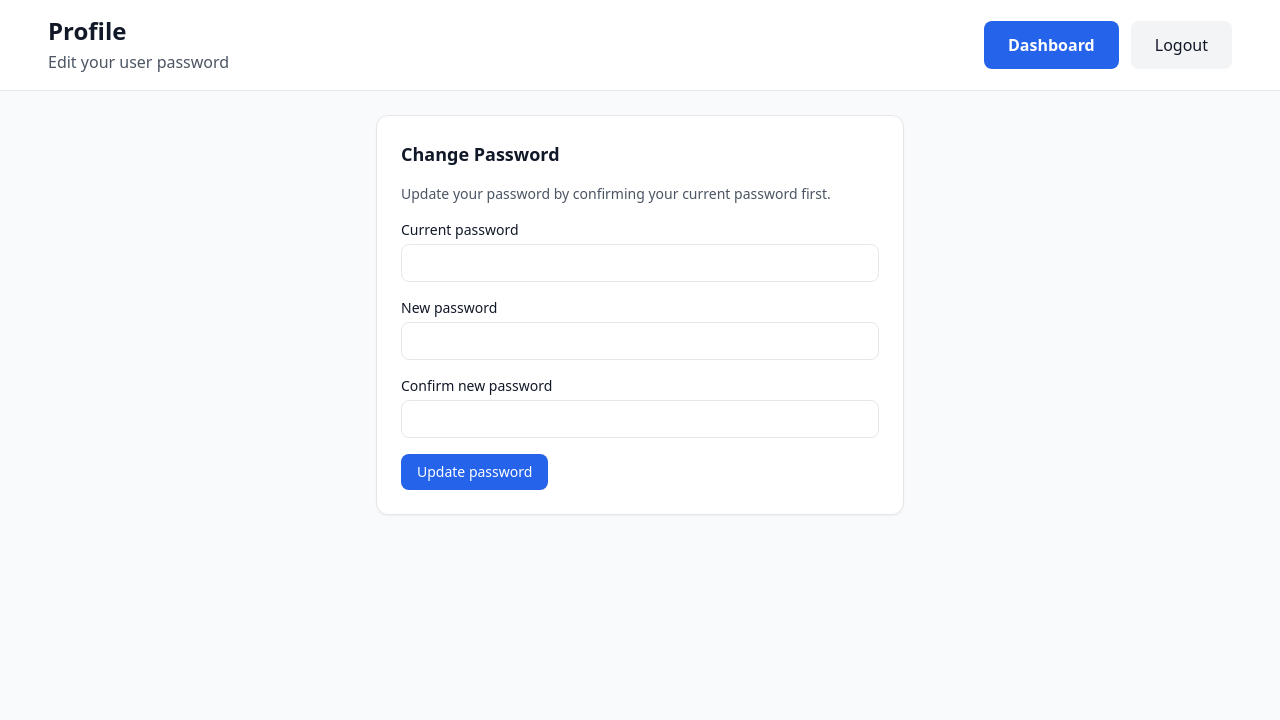
ProfilePage › shows a validation error when new passwords do not match
Expected: the heading "Profile" is shown, [48,14,126,47]
Type "oldpass" into the 1st password field at (640, 263), box [401,244,879,282]
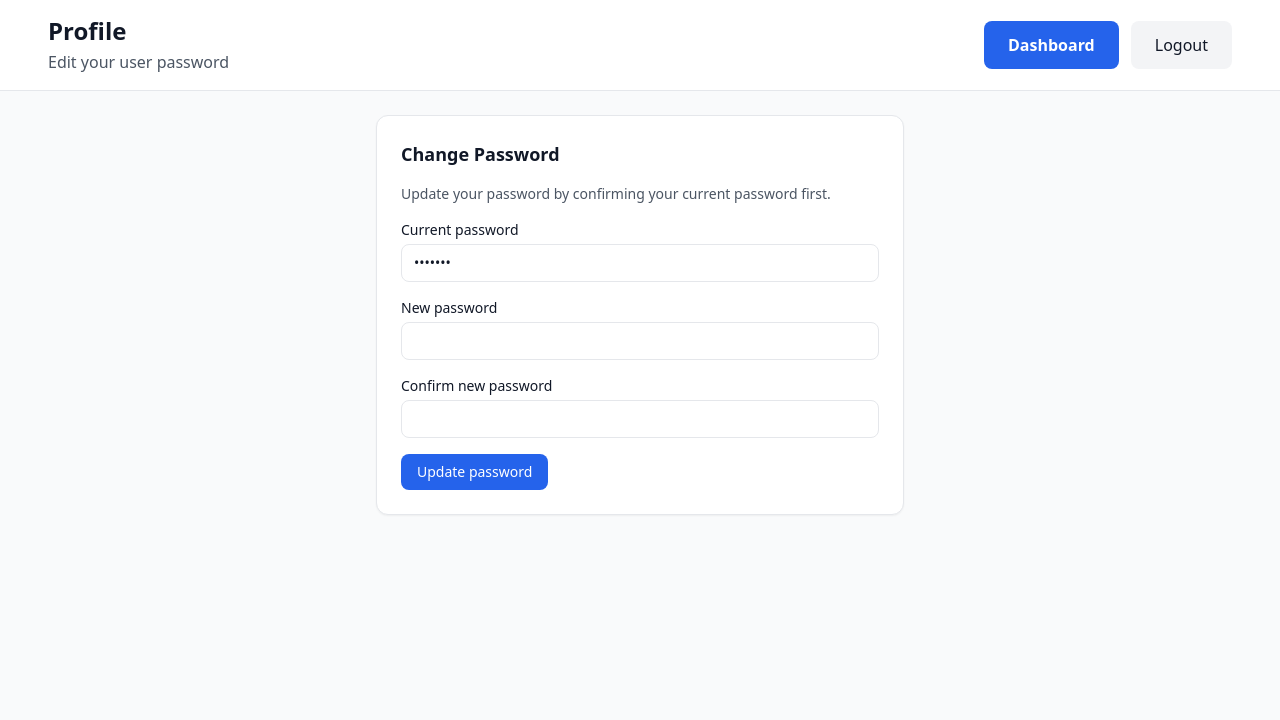
Type "newpass1" into the 2nd password field at (640, 341), box [401,322,879,360]
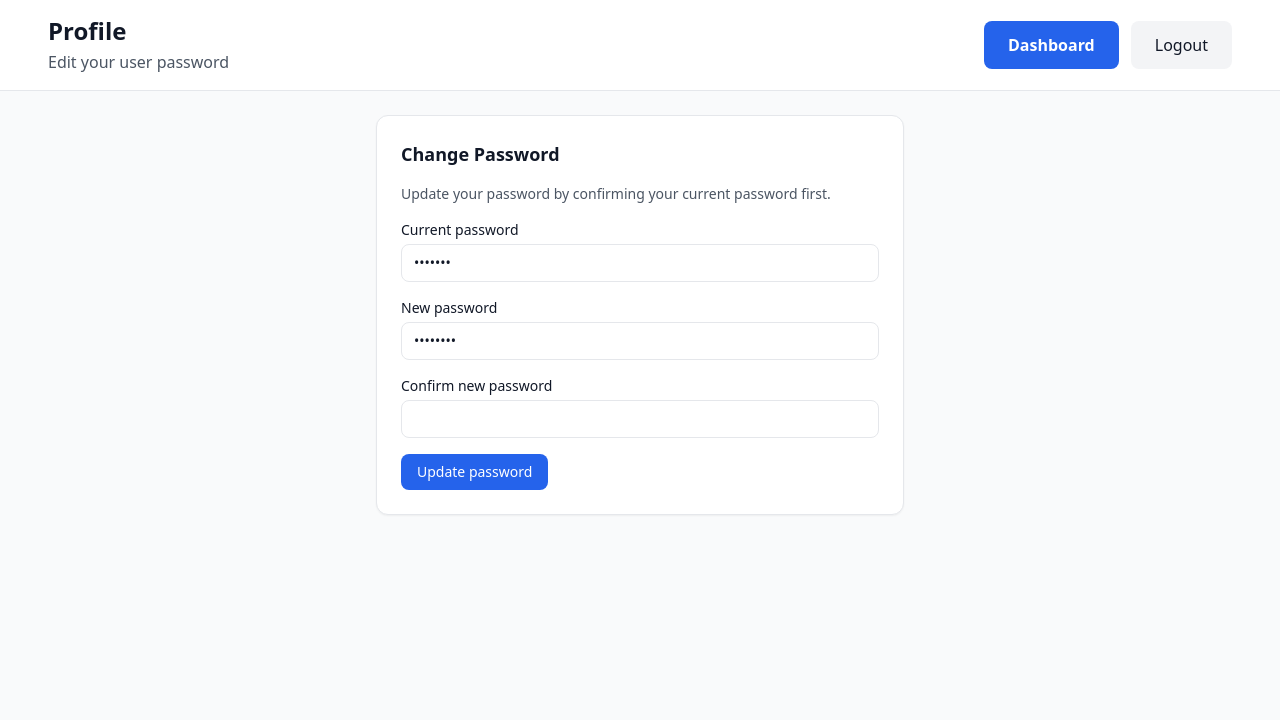
Type "newpass2" into the password field below "Confirm new password" at (640, 419), box [401,400,879,438]
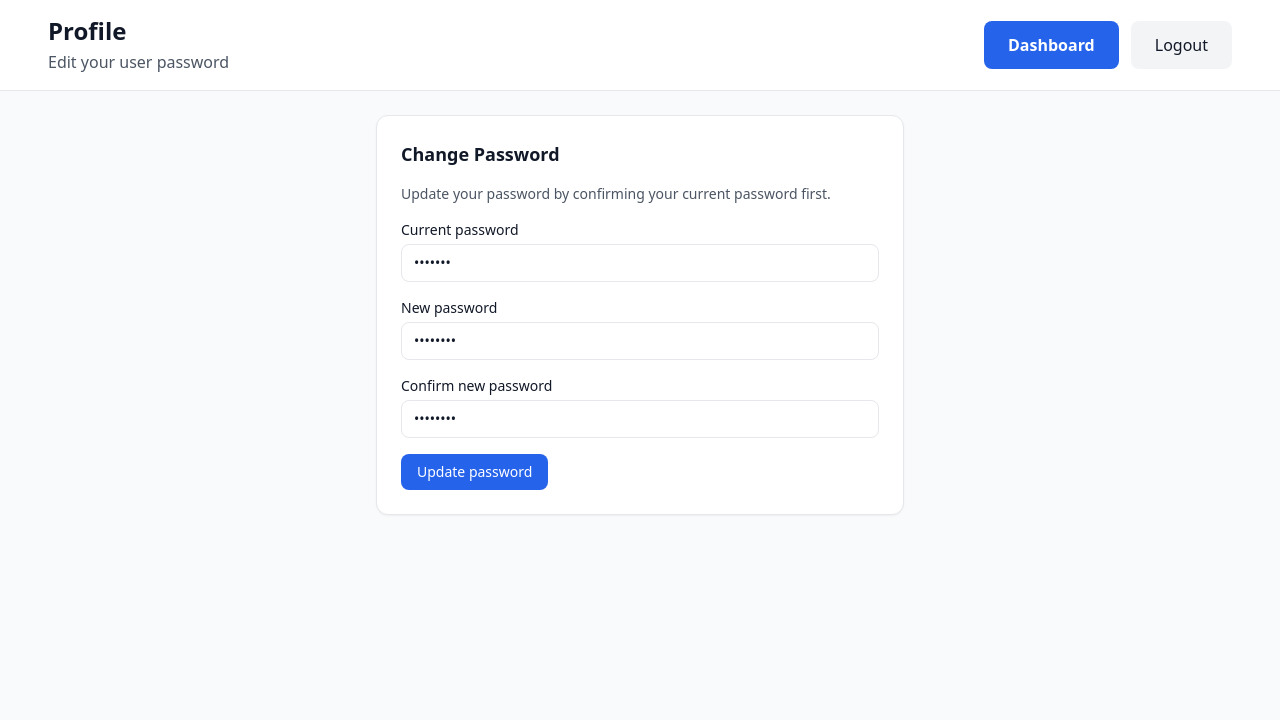
Submit the form, box [401,220,879,490]
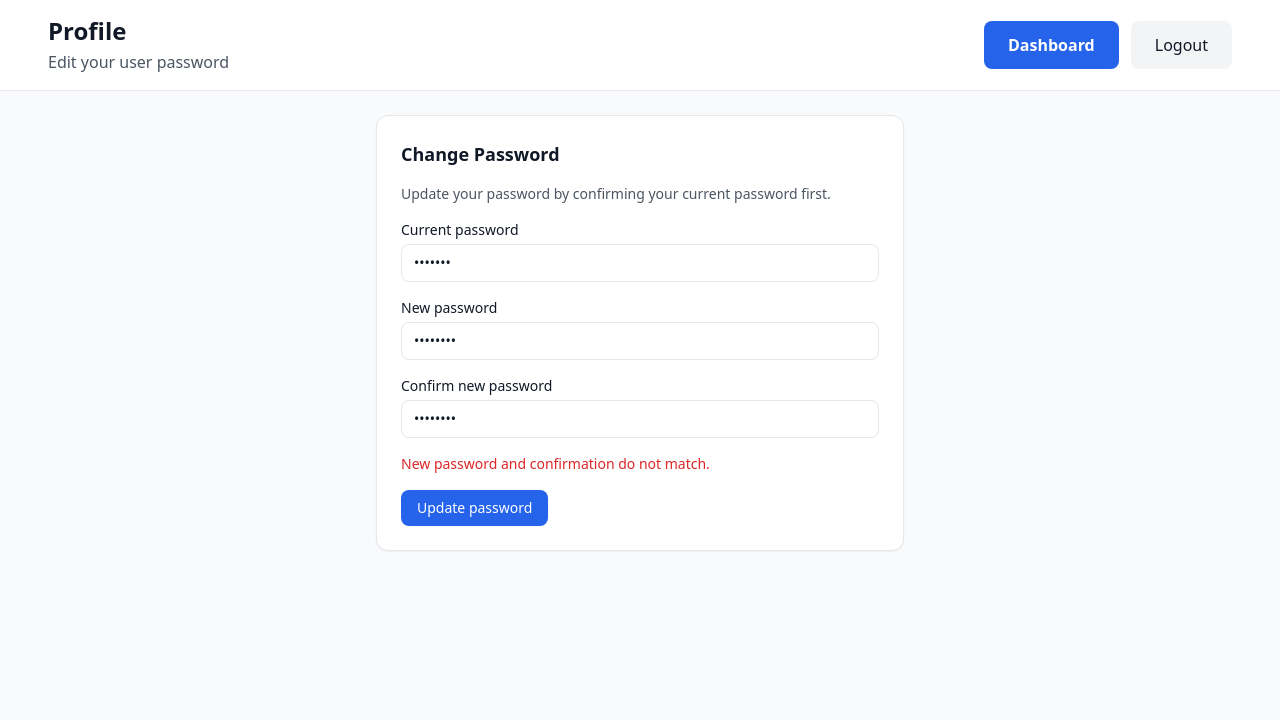
Now the message reads "New password and confirmation do not match.", box [401,454,710,473]
